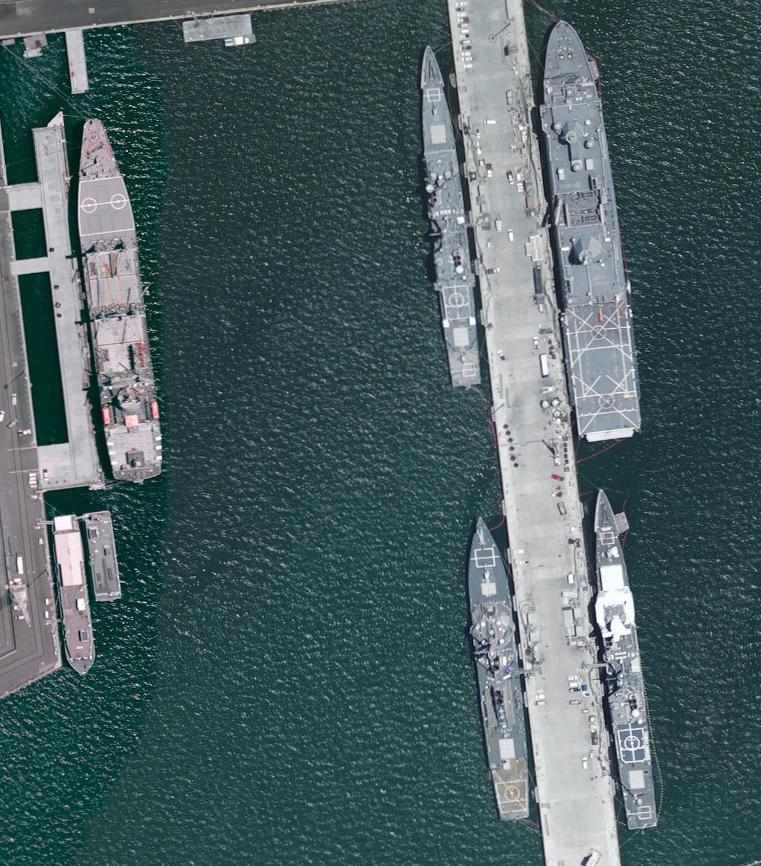amphiby: (533, 9, 659, 446)
cruiser: (588, 485, 672, 842), (416, 38, 499, 395)
destroyer: (448, 507, 547, 835)
supply: (64, 106, 174, 489)
